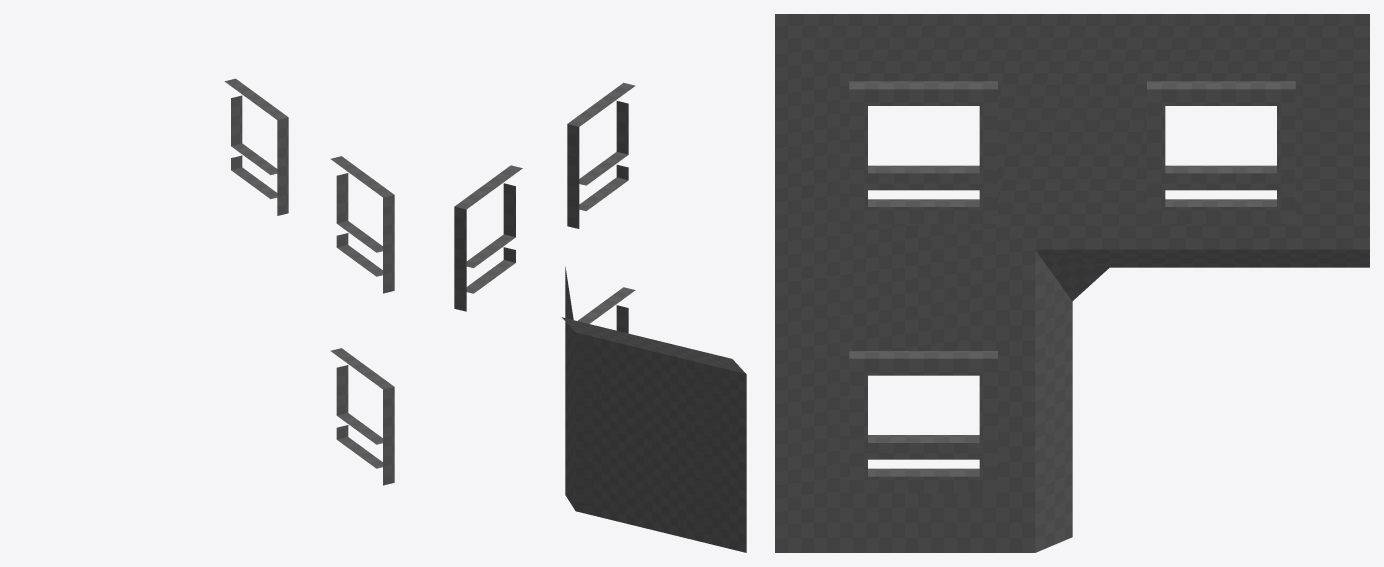
3 renders of one model, left to right at view 1: azimuth 30°, elevation 25°; view 2: azimuth 150°, elevation 25°; view 3: azimuth 270°, elevation 25°, orthographic. The views are drawn at different scales.
Visible parts, largest first — view 1: CubeDownBackRight4V3; view 2: CubeDownBackRight4V3; view 3: CubeDownBackRight4V3.
Part boxes in pixels (x1,y1,x2,y2): CubeDownBackRight4V3: [224, 78, 394, 485]; CubeDownBackRight4V3: [454, 82, 746, 552]; CubeDownBackRight4V3: [775, 14, 1369, 552].
Size of the model in its own units: 2.12 by 4 by 4.
1 material, 1 textured.
